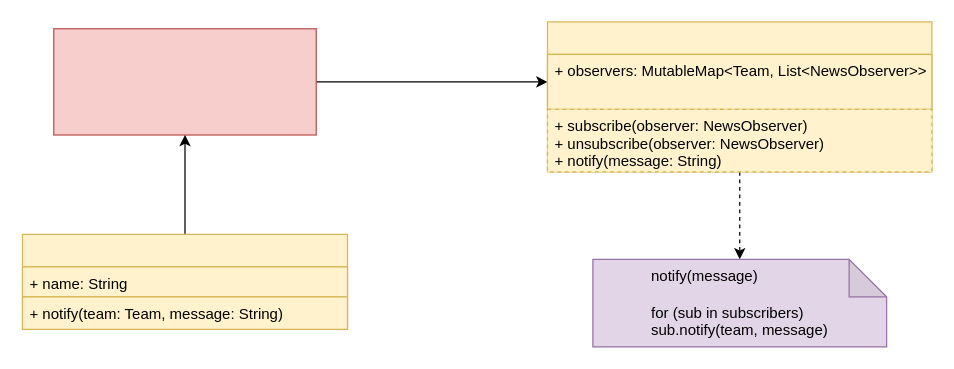
Some shapes in this 954 by 369 pixel diagram are drawn without their labels. Here are the shapes that lost their labels. From the top down, the box of each, then its label:
(52, 28, 316, 135): <<Interface>> NewsObserver + notify(team: Team, message: String)
(546, 21, 932, 172): NewsPublisher
(21, 233, 348, 329): Fan
